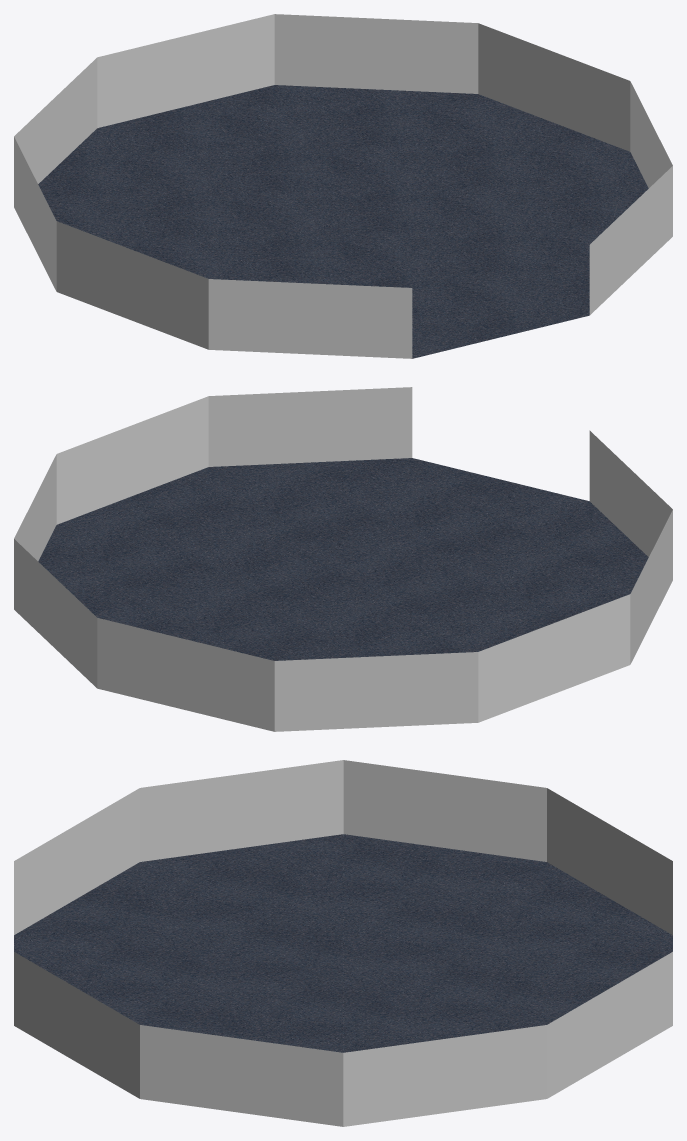
File: sta.fbx
The picture shows the model from 3 angles, top to bottom: view 1: azimuth 30°, elevation 25°; view 2: azimuth 150°, elevation 25°; view 3: azimuth 270°, elevation 25°; orthographic projection. The views are drawn at different scales.
Parts seen in each view (by area): view 1: Plane.050, Plane.049; view 2: Plane.050, Plane.049; view 3: Plane.050, Plane.049.
Part boxes in pixels (x1=…): Plane.050: x1=38, y1=85, x2=648, y2=358; Plane.049: x1=14, y1=14, x2=672, y2=358; Plane.050: x1=38, y1=458, x2=648, y2=660; Plane.049: x1=14, y1=387, x2=672, y2=731; Plane.050: x1=14, y1=834, x2=672, y2=1052; Plane.049: x1=14, y1=760, x2=672, y2=1126.
Bounding box in the file's own units: 59.5 × 7.03 × 56.59.
2 materials, 1 textured.
